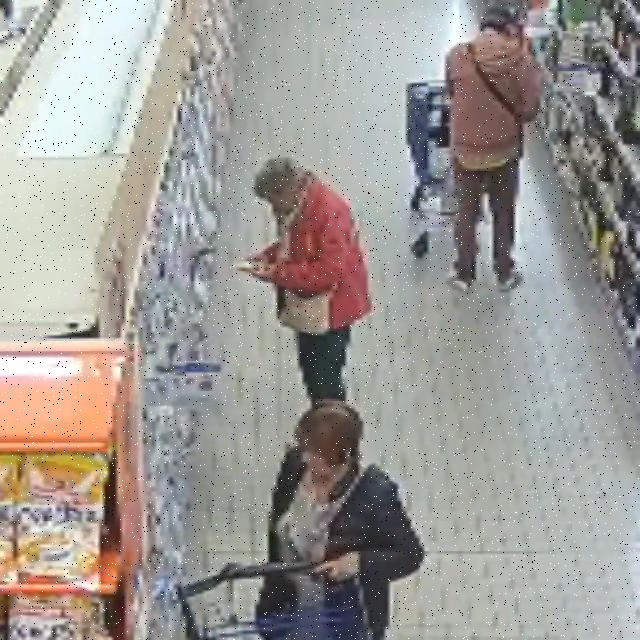article: (234, 260, 270, 271)
bags: (468, 44, 523, 157), (280, 290, 332, 334), (253, 576, 299, 615)
hands: (316, 553, 359, 581), (238, 263, 274, 282)
person: (257, 402, 424, 639), (245, 158, 371, 402), (446, 6, 540, 289)
